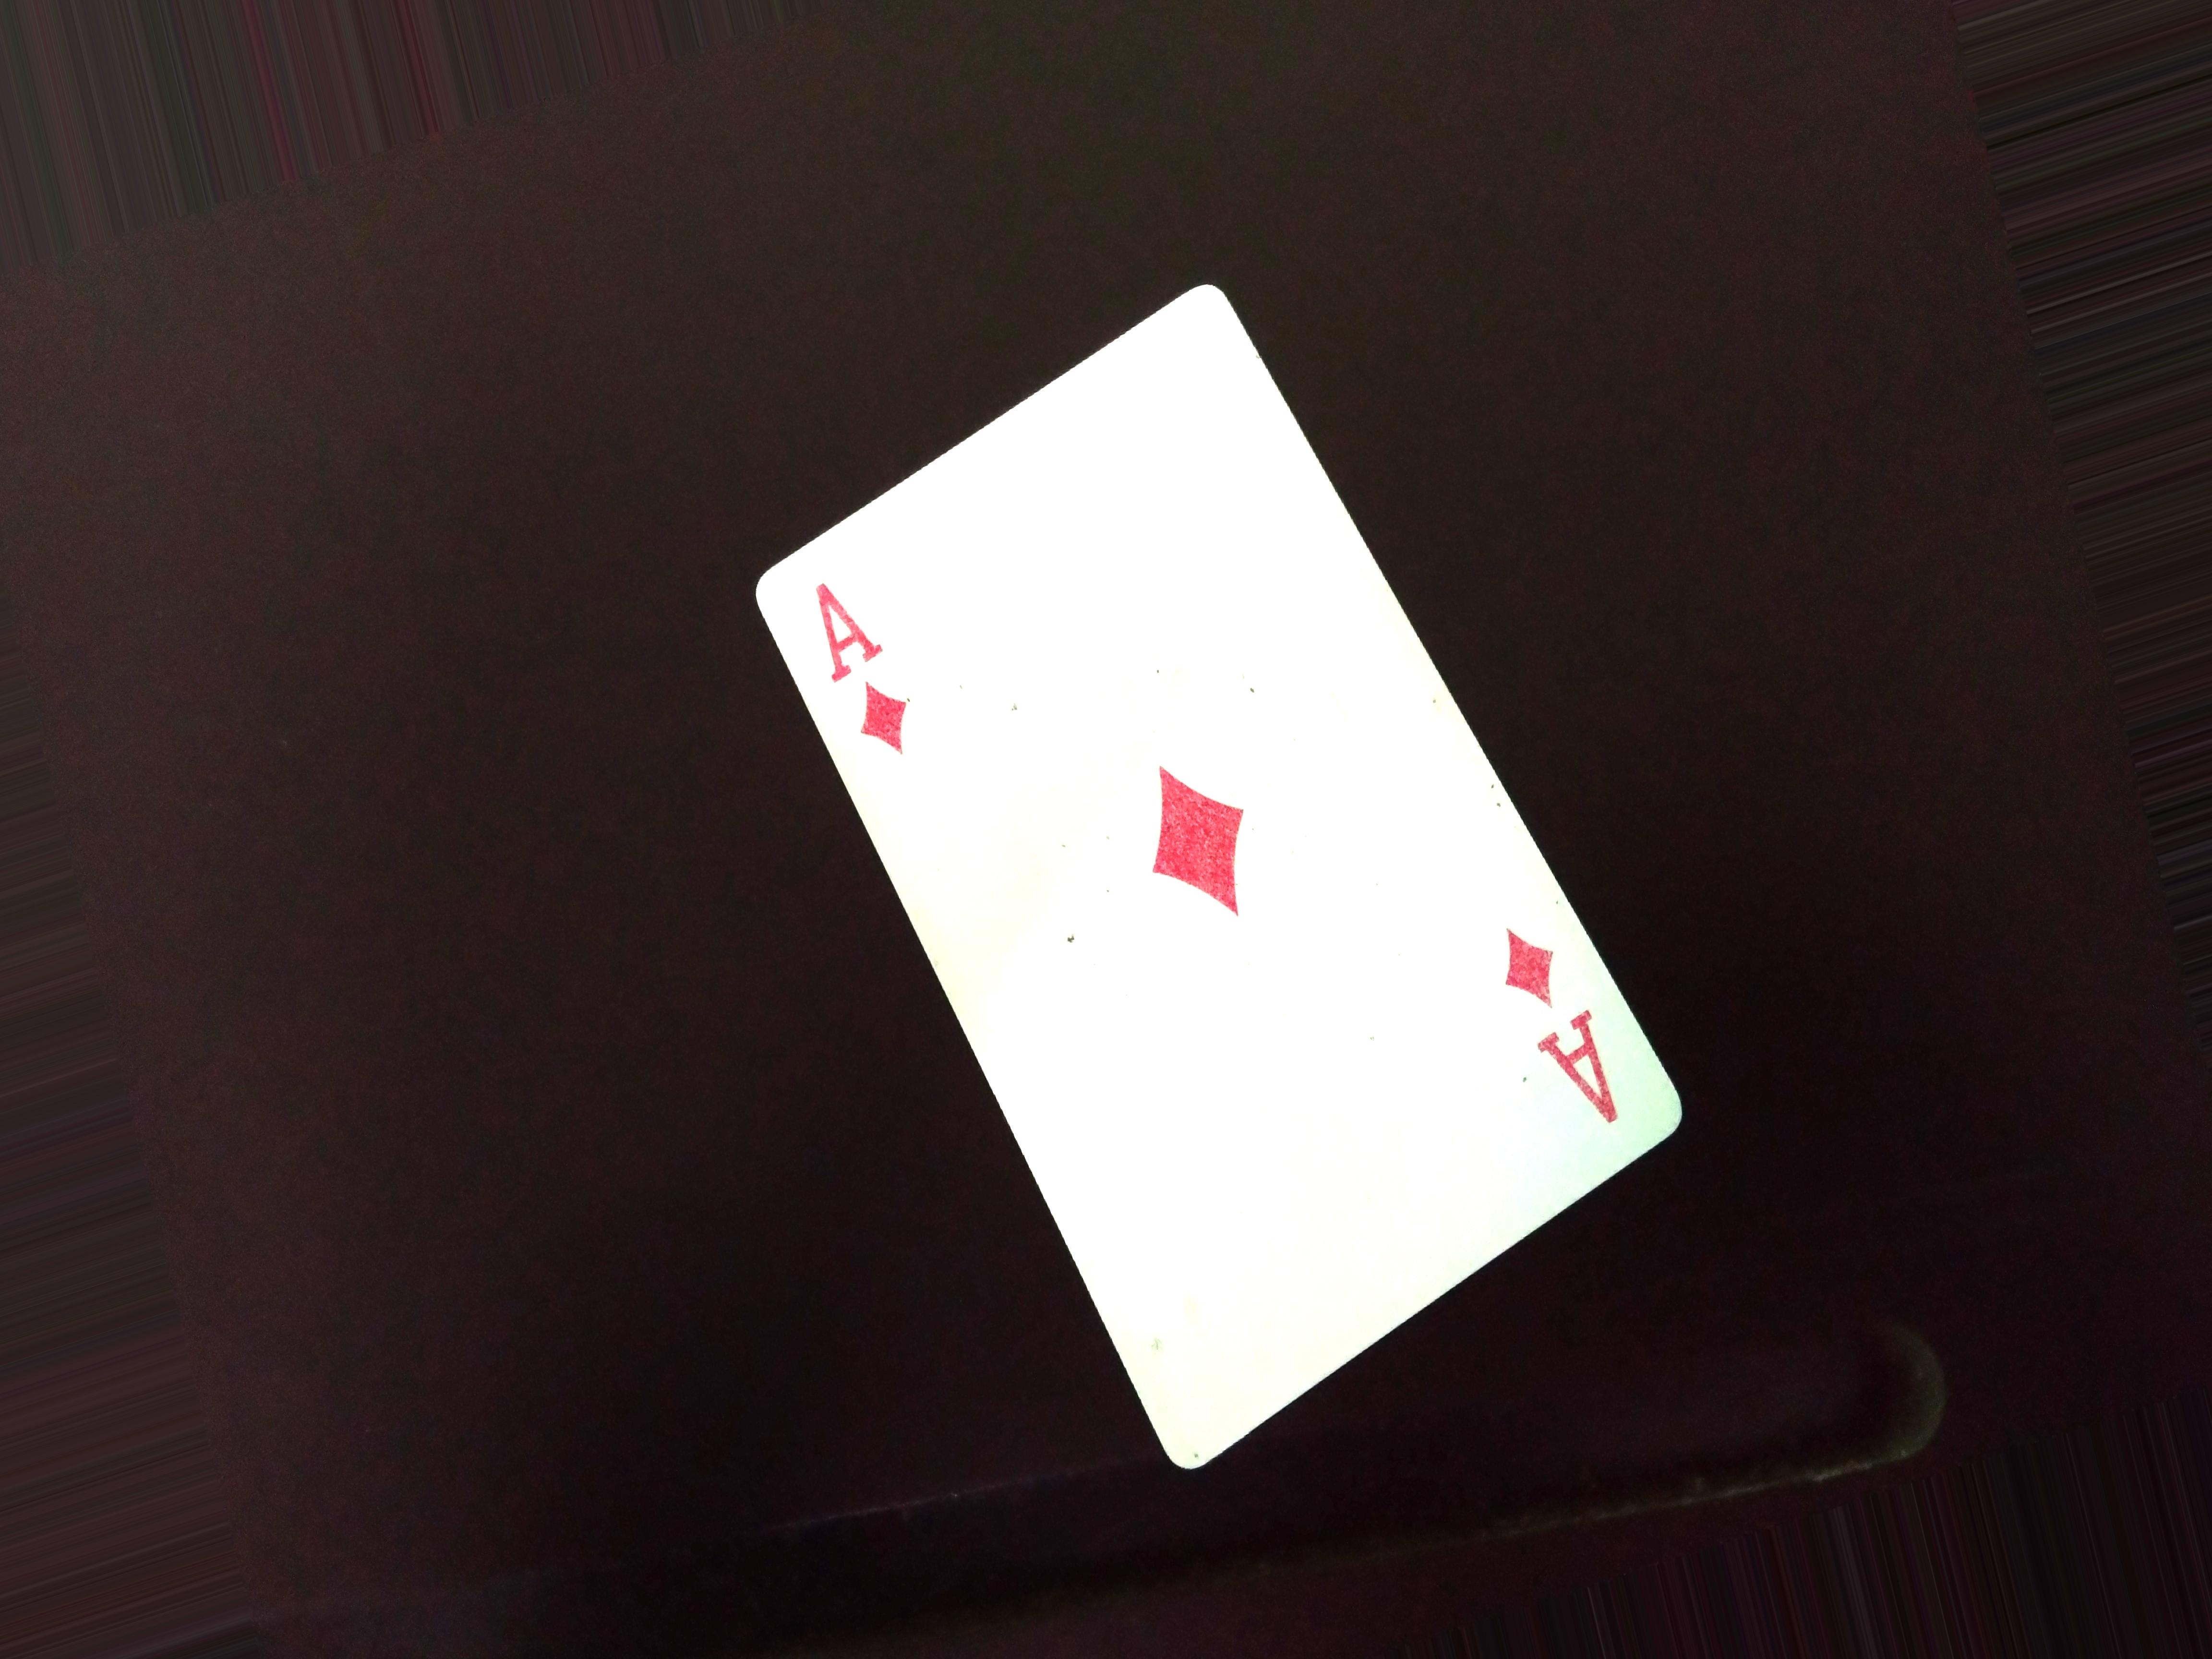AD: (796, 568, 928, 774)
